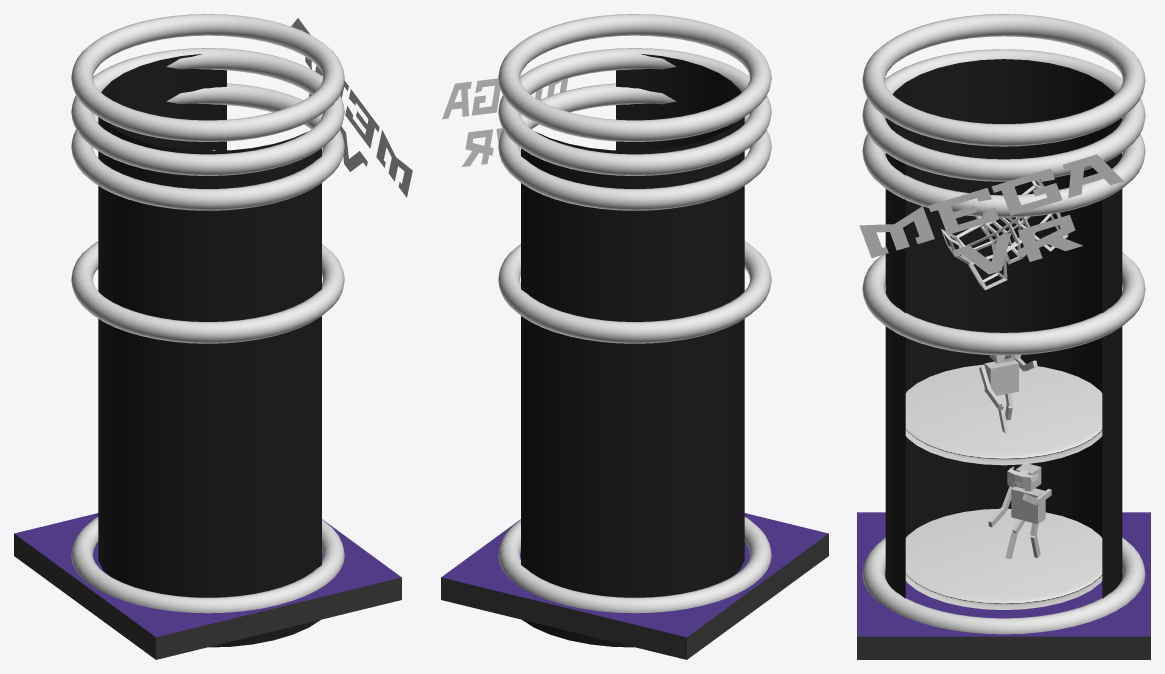
File: checkpoint_5_vr.fbx
3 views of the same model, side by side, from view 1: azimuth 30°, elevation 25°; view 2: azimuth 150°, elevation 25°; view 3: azimuth 270°, elevation 25° (orthographic). The views are drawn at different scales.
Parts seen in each view (by area): view 1: Cylinder.009, Building Segment.007, Torus.007, Torus.008, Torus.009, Torus.010, Torus.006, Text.006; view 2: Cylinder.009, Building Segment.007, Torus.007, Torus.008, Torus.009, Torus.010, Torus.006, Text.006; view 3: Cylinder.009, Building Segment.007, Cylinder.011, Cylinder.012, Torus.007, Torus.008, Text.006, Torus.010, Torus.006, Torus.009, Cube.216, Generated Shape.013 (+2 smaller).
Boxes of the visible parts, x1=… form: Cylinder.009: x1=98, y1=54, x2=321, y2=647; Building Segment.007: x1=14, y1=513, x2=401, y2=659; Torus.007: x1=71, y1=14, x2=344, y2=141; Torus.008: x1=71, y1=48, x2=344, y2=175; Torus.009: x1=71, y1=83, x2=344, y2=210; Torus.010: x1=71, y1=241, x2=344, y2=343; Torus.006: x1=71, y1=517, x2=344, y2=613; Text.006: x1=291, y1=18, x2=412, y2=197; Cylinder.009: x1=521, y1=54, x2=744, y2=647; Building Segment.007: x1=441, y1=513, x2=828, y2=659; Torus.007: x1=498, y1=14, x2=771, y2=141; Torus.008: x1=498, y1=48, x2=771, y2=175; Torus.009: x1=498, y1=83, x2=771, y2=210; Torus.010: x1=498, y1=241, x2=771, y2=343; Torus.006: x1=498, y1=517, x2=771, y2=613; Text.006: x1=442, y1=75, x2=567, y2=166; Cylinder.009: x1=885, y1=59, x2=1122, y2=598; Building Segment.007: x1=857, y1=512, x2=1150, y2=659; Cylinder.011: x1=905, y1=508, x2=1102, y2=609; Cylinder.012: x1=905, y1=364, x2=1102, y2=465; Torus.007: x1=862, y1=14, x2=1145, y2=146; Torus.008: x1=862, y1=49, x2=1145, y2=181; Text.006: x1=859, y1=154, x2=1123, y2=274; Torus.010: x1=862, y1=252, x2=1145, y2=355; Torus.006: x1=862, y1=537, x2=1145, y2=634; Torus.009: x1=862, y1=117, x2=1145, y2=217; Cube.216: x1=988, y1=464, x2=1051, y2=559; Generated Shape.013: x1=941, y1=179, x2=1068, y2=290.
Bounding box in the file's own units: 839 × 1656 × 800.
